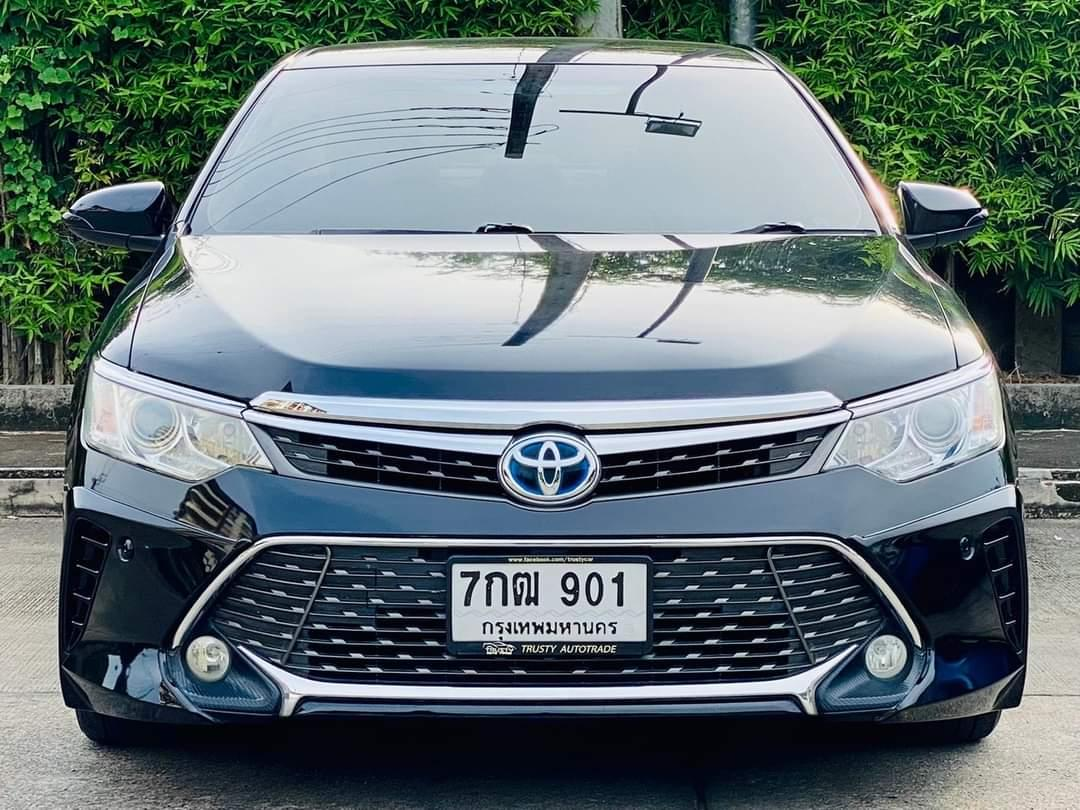license-plate: (445, 553, 656, 660)
